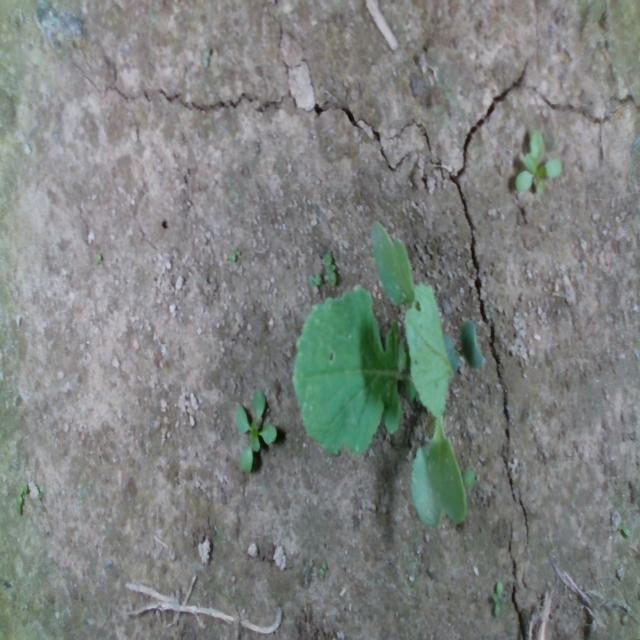weed: (491, 578, 505, 615), (323, 250, 337, 286), (306, 271, 322, 286), (319, 559, 327, 578)
